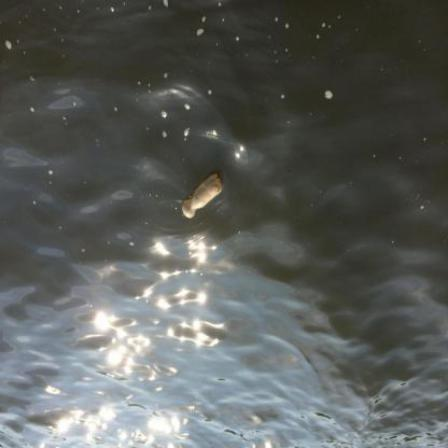Bottle: (183, 176, 223, 220)
